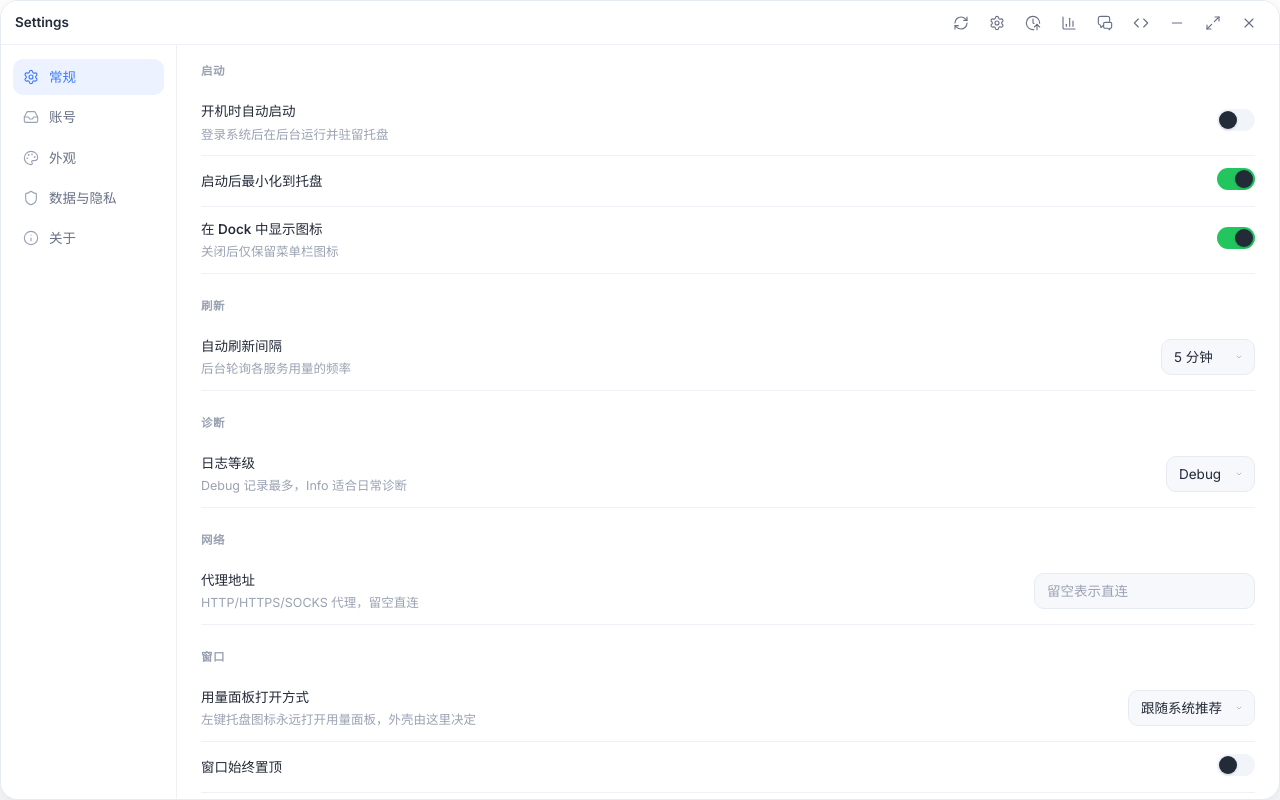
Test: SettingsView › uses semantic UI controls for data actions
Click the button with test id "settings-plugin-nav-data".
click(88, 198)  # box x1=13 y1=180 x2=164 y2=216
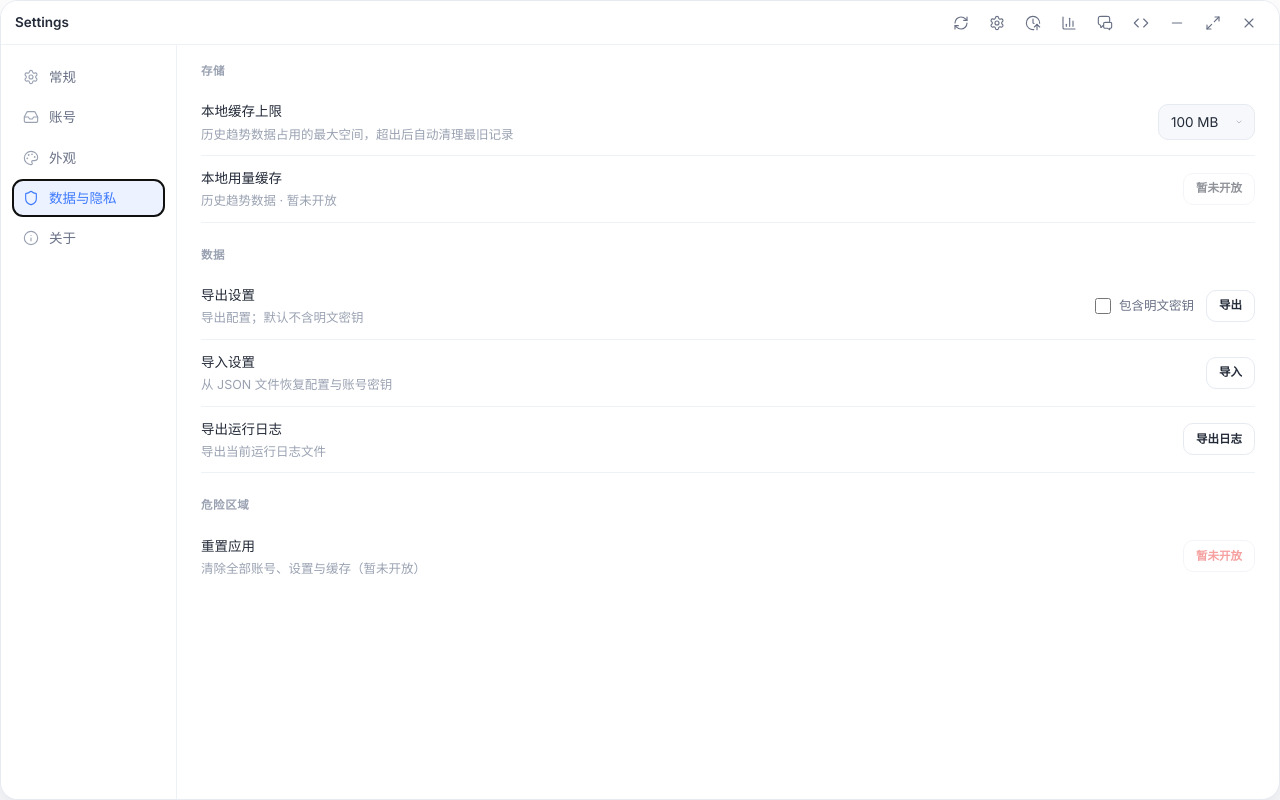
Expected: the button "导出" is shown, x1=1206 y1=290 x2=1255 y2=322
Expected: the button "导入" is shown, x1=1206 y1=357 x2=1255 y2=389
Expected: the button "导出日志" is shown, x1=1183 y1=423 x2=1255 y2=455
